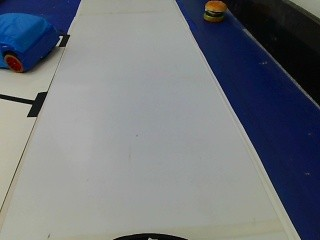burger: (199, 1, 231, 26)
